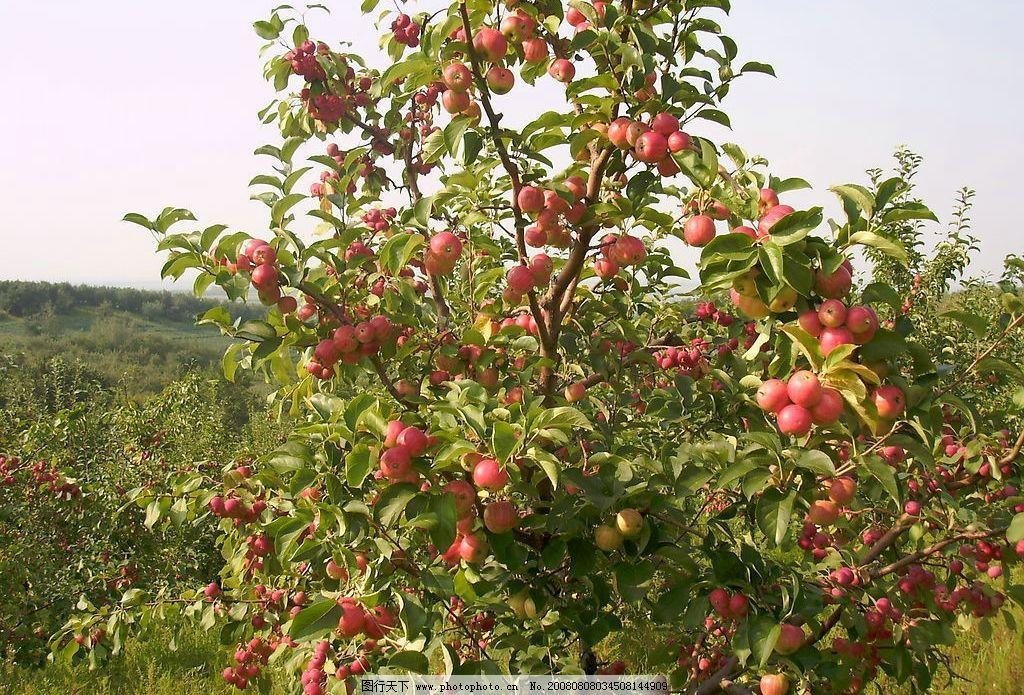apple: (810, 261, 854, 299), (870, 383, 907, 424), (777, 404, 813, 440), (786, 367, 822, 403), (472, 459, 508, 494), (813, 388, 845, 427), (683, 214, 718, 249), (755, 376, 787, 413), (612, 235, 649, 266), (377, 447, 412, 479), (483, 501, 518, 532), (427, 231, 462, 262), (475, 30, 507, 63), (636, 130, 668, 162), (455, 533, 489, 563), (517, 183, 548, 215), (614, 507, 645, 538), (442, 62, 473, 93), (504, 263, 534, 295), (818, 298, 847, 329), (776, 624, 804, 654), (593, 522, 621, 552), (486, 66, 514, 96), (439, 88, 471, 113), (501, 15, 527, 45), (524, 35, 550, 63), (550, 56, 576, 83), (332, 324, 355, 352), (250, 266, 278, 289), (758, 673, 787, 695), (848, 307, 870, 334), (252, 244, 276, 265), (256, 288, 282, 306), (355, 322, 374, 343)
